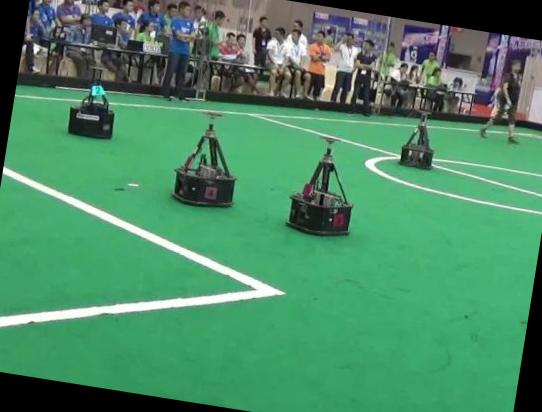person: (479, 60, 521, 143), (162, 1, 194, 99), (350, 39, 376, 115)
robot: (287, 137, 351, 234), (172, 112, 236, 205), (67, 65, 114, 138), (399, 110, 433, 169)
